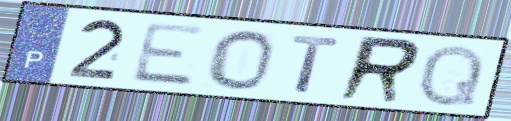2: (67, 17, 127, 81)
E: (128, 21, 210, 88)
O: (205, 27, 278, 92)
Q: (414, 43, 488, 109)
R: (333, 33, 425, 106)
T: (288, 33, 344, 96)
